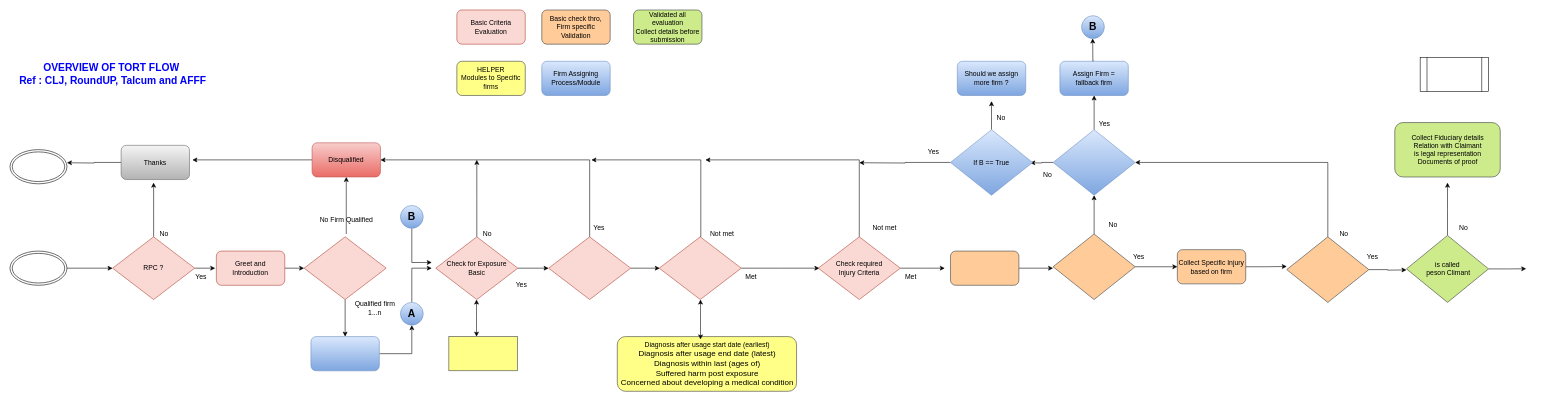
The diagram is 1541 pixels wide and 401 high, and some of its shapes have lost their labels. The shapes that lost their labels are listed below. From the top down, each one's box as (x1, y1, x2, y2) in pixels, then its label:
(9, 149, 67, 184): END
(1053, 129, 1135, 195): If A == True
(9, 251, 67, 285): START
(304, 236, 386, 300): Decide Primary firm
(548, 236, 631, 300): Attorney represented you for this matter in the past
(659, 236, 741, 300): Check Basic Diagnosis Criteria
(950, 251, 1019, 285): Collect Specific Exposure based on firm
(1053, 233, 1135, 300): Check All exposure criteria met for Firm
(1286, 236, 1369, 302): Check All Injury criteria met for Firm
(310, 336, 379, 371): Assign Primary Firm Fallback Firm
(448, 336, 517, 371): Additional Questions based on Tort, Firm
